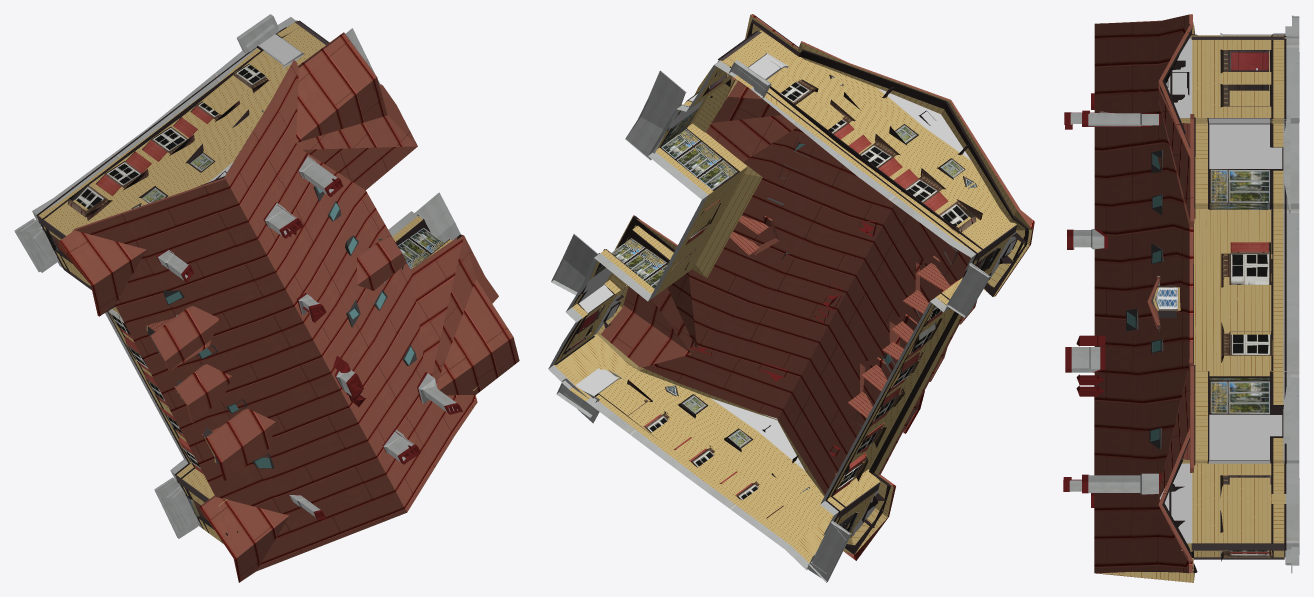
The model's file is Toompuiestee-10-origo.obj.
The picture shows the model from 3 angles, left to right: view 1: azimuth 30°, elevation 25°; view 2: azimuth 150°, elevation 25°; view 3: azimuth 270°, elevation 25°; orthographic projection. The views are drawn at different scales.
Visible parts, largest first — view 1: house_2; view 2: house_2; view 3: house_2.
Boxes of the visible parts, left/top/right/bottom form: house_2: left=14, top=14, right=519, bottom=582; house_2: left=548, top=14, right=1034, bottom=582; house_2: left=1063, top=14, right=1299, bottom=582.
Size of the model in its own units: 31.19 by 34 by 11.78.
